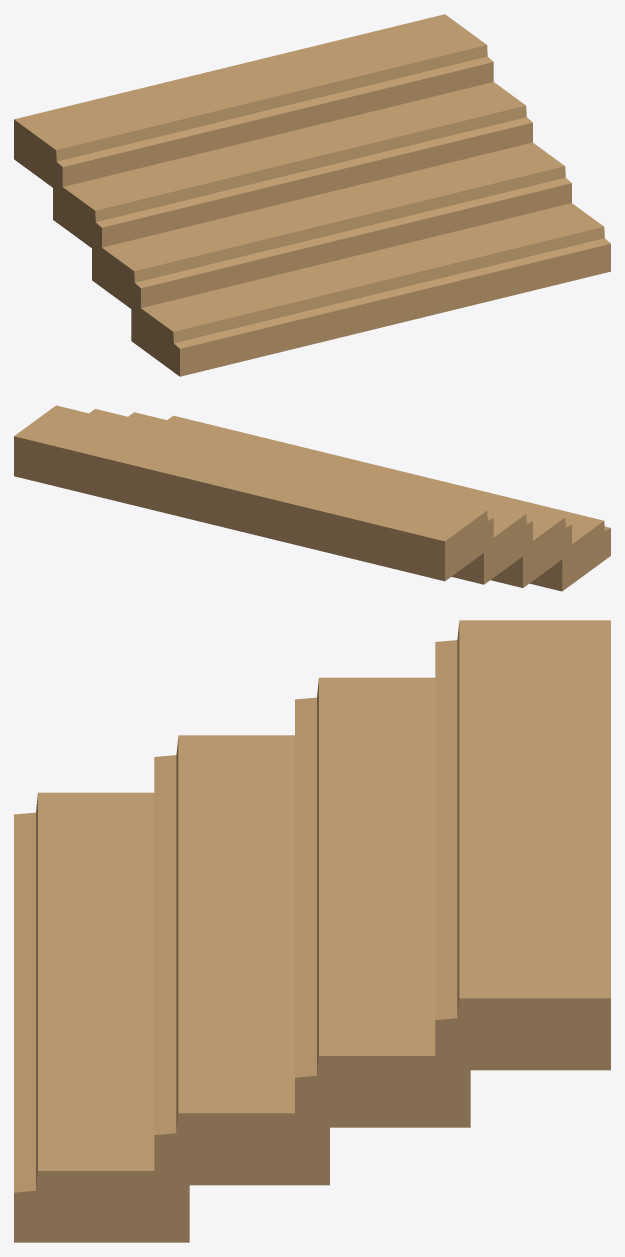
Rendered from escada.fbx.
3 views of the same model, one above another, from view 1: azimuth 30°, elevation 25°; view 2: azimuth 150°, elevation 25°; view 3: azimuth 270°, elevation 25° (orthographic). The views are drawn at different scales.
Visible parts, largest first — view 1: escada; view 2: escada; view 3: escada.
Boxes of the visible parts, x1=… form: escada: x1=14, y1=14, x2=610, y2=376; escada: x1=14, y1=405, x2=610, y2=591; escada: x1=14, y1=620, x2=610, y2=1242.
Size of the model in its own units: 1002 by 302 by 668.
